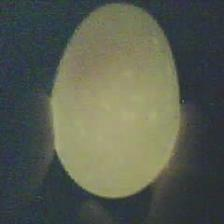infertile: (48, 2, 182, 196)
